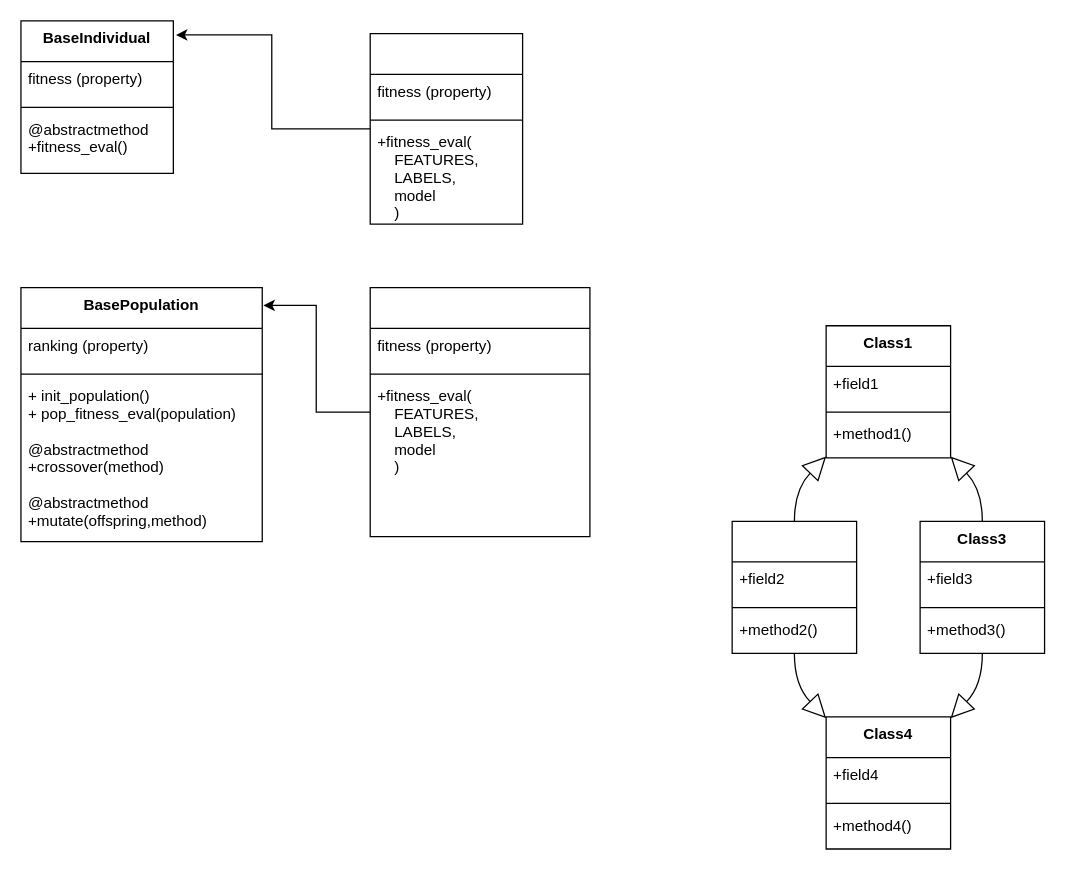
The diagram is 1066 pixels wide and 870 high, and some of its shapes have lost their labels. The box of each missing label's shape, as (x1, y1, x2, y2) in pixels:
Class2: (731, 520, 857, 653)
Individual: (369, 32, 523, 224)
Population: (369, 286, 590, 537)
